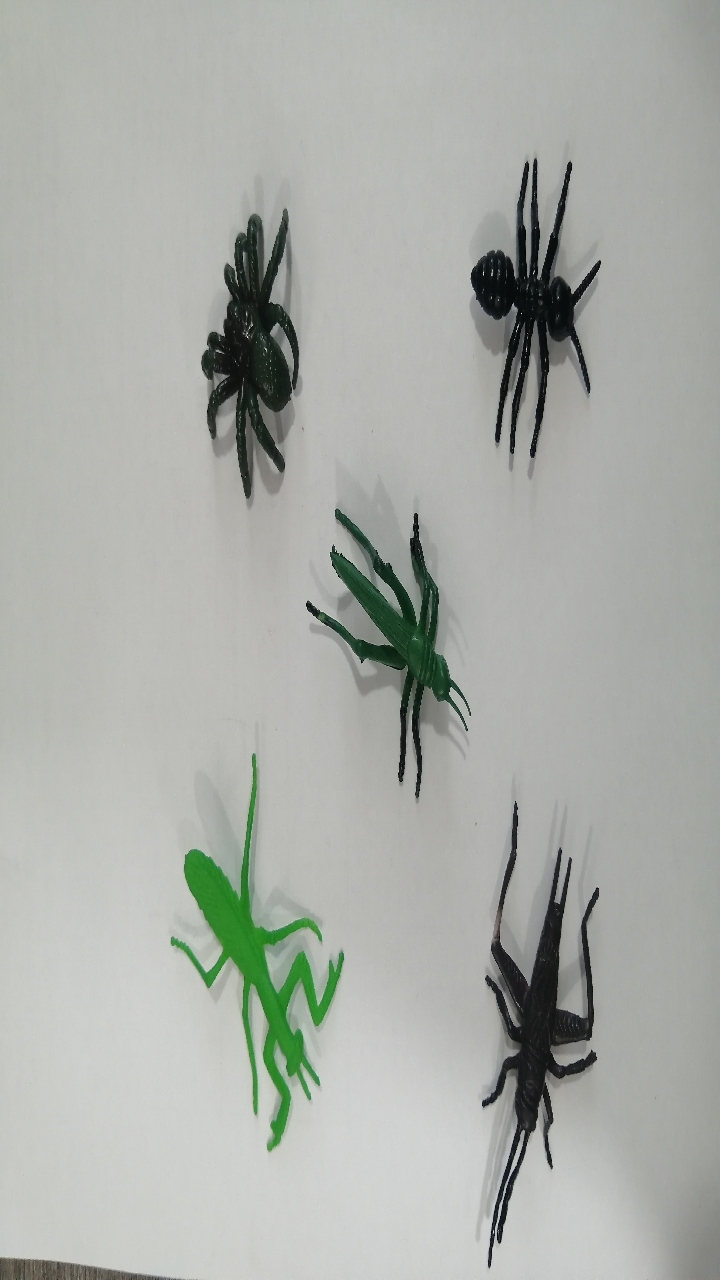intruso: (124, 739, 371, 1182), (431, 772, 628, 1280), (437, 134, 624, 506), (291, 492, 504, 811), (141, 188, 337, 506)
